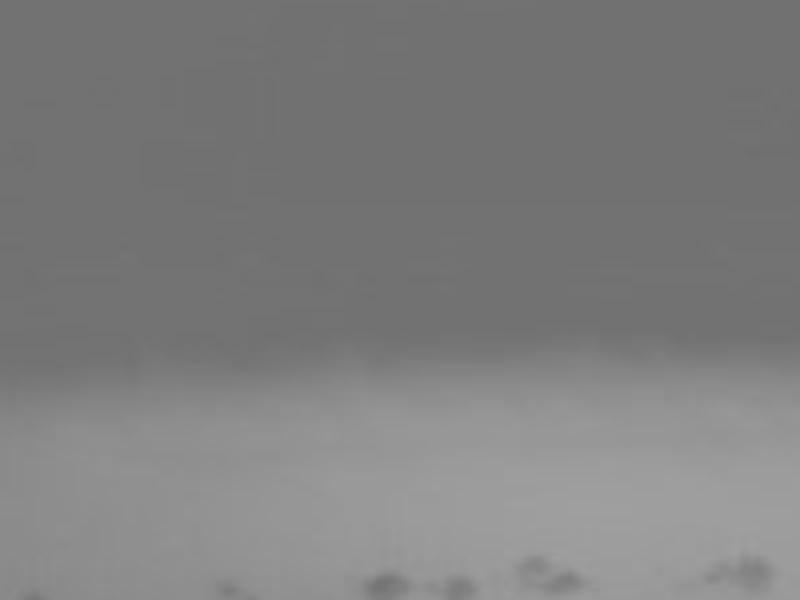defect: (732, 553, 773, 593), (433, 573, 478, 597), (364, 574, 405, 600), (543, 568, 581, 596), (512, 557, 549, 579), (698, 555, 729, 581), (209, 578, 251, 596), (419, 577, 438, 590), (21, 592, 39, 600)
